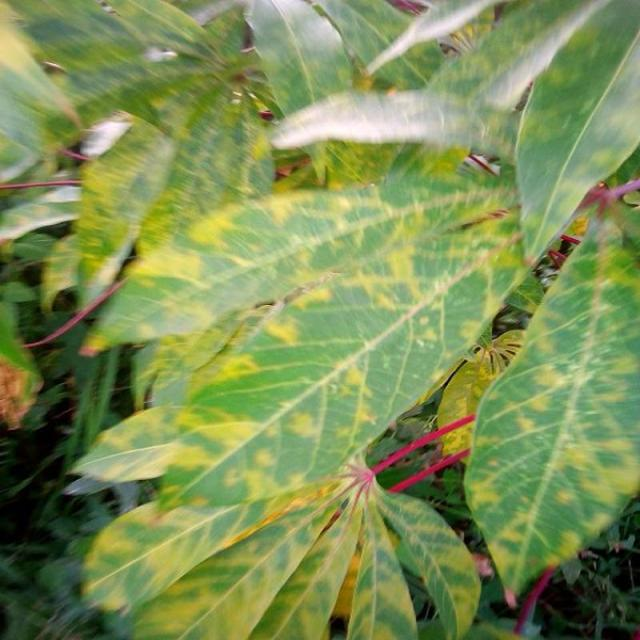cassava leaf: (4, 1, 639, 638), (462, 205, 640, 605), (514, 0, 640, 266)
